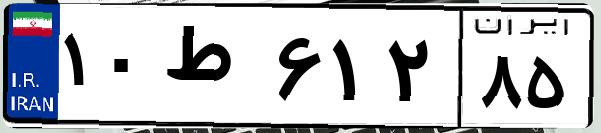0: (110, 28, 158, 98)
1: (330, 28, 385, 110), (57, 26, 110, 100)
2: (385, 28, 445, 110)
5: (525, 38, 570, 115)
6: (270, 28, 330, 110)
8: (475, 38, 525, 113)
ط: (158, 20, 270, 120)
